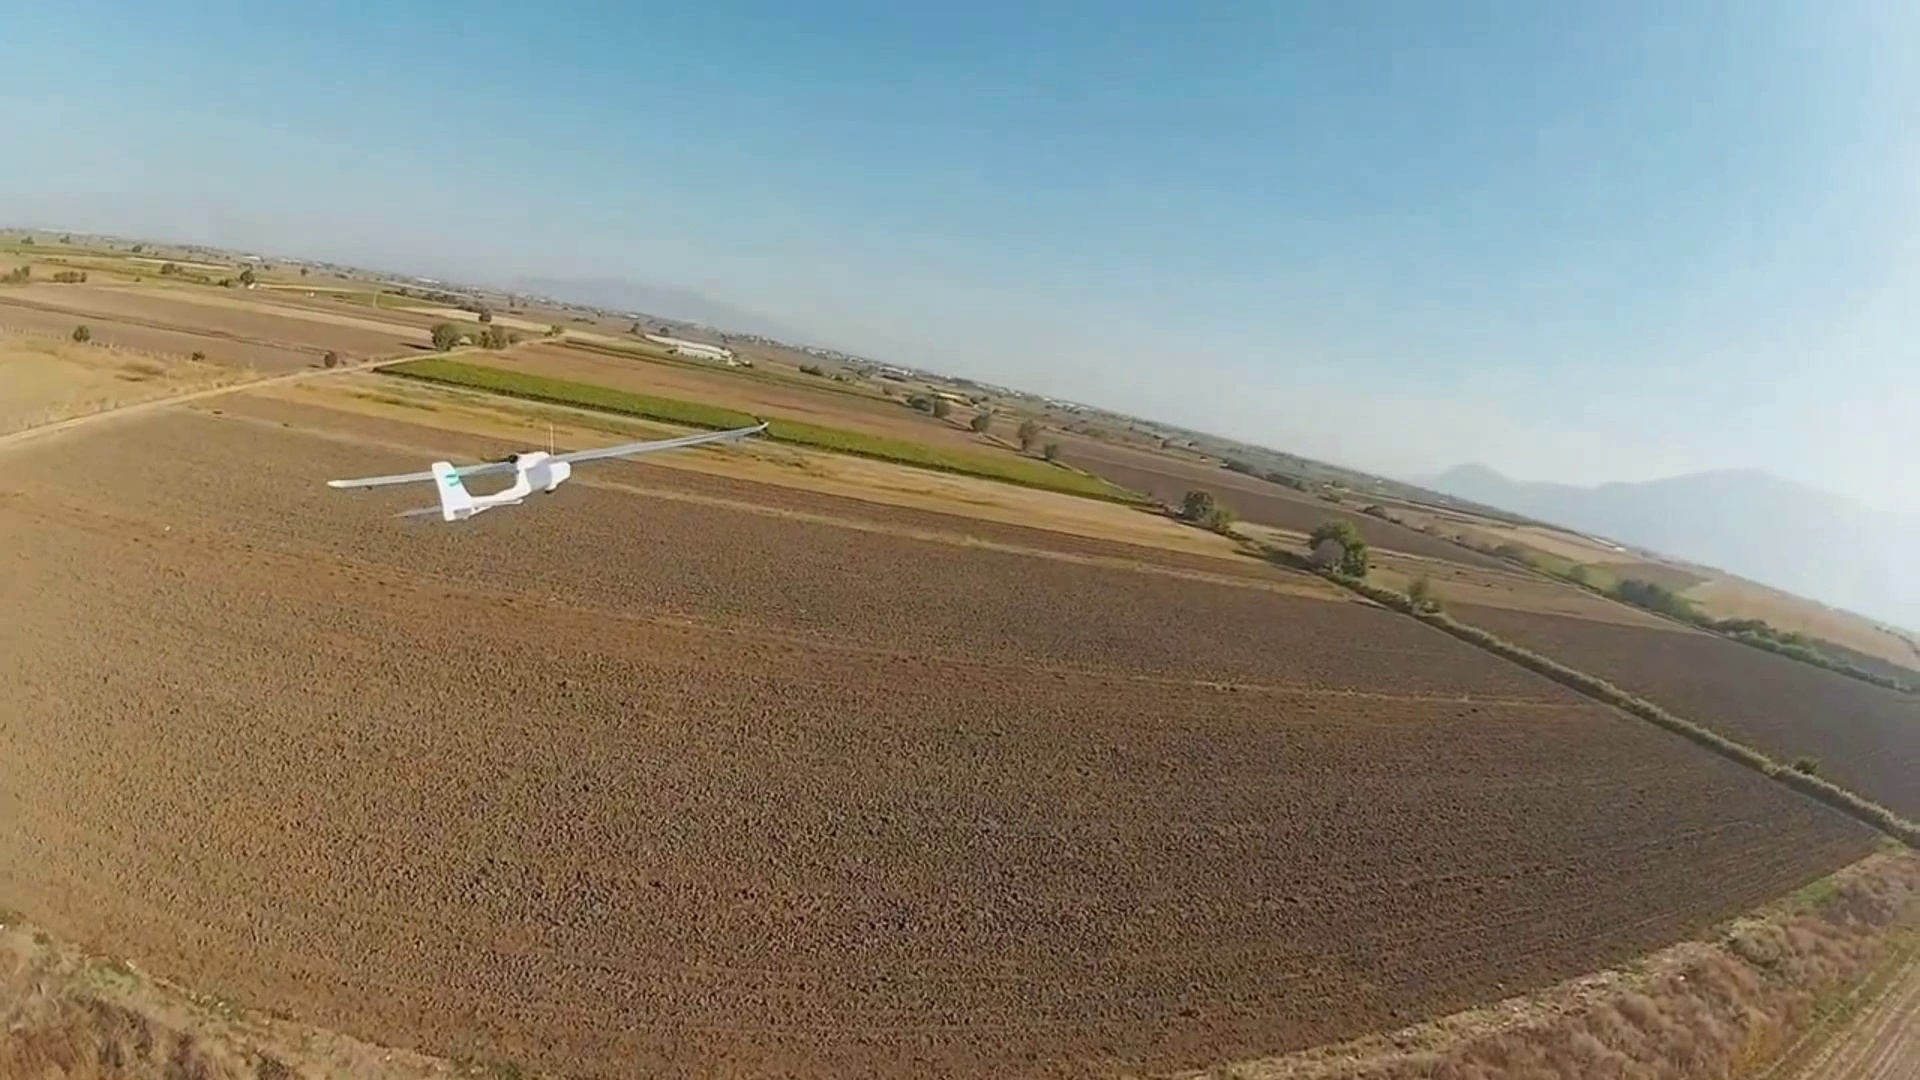airplane: (320, 421, 770, 524)
